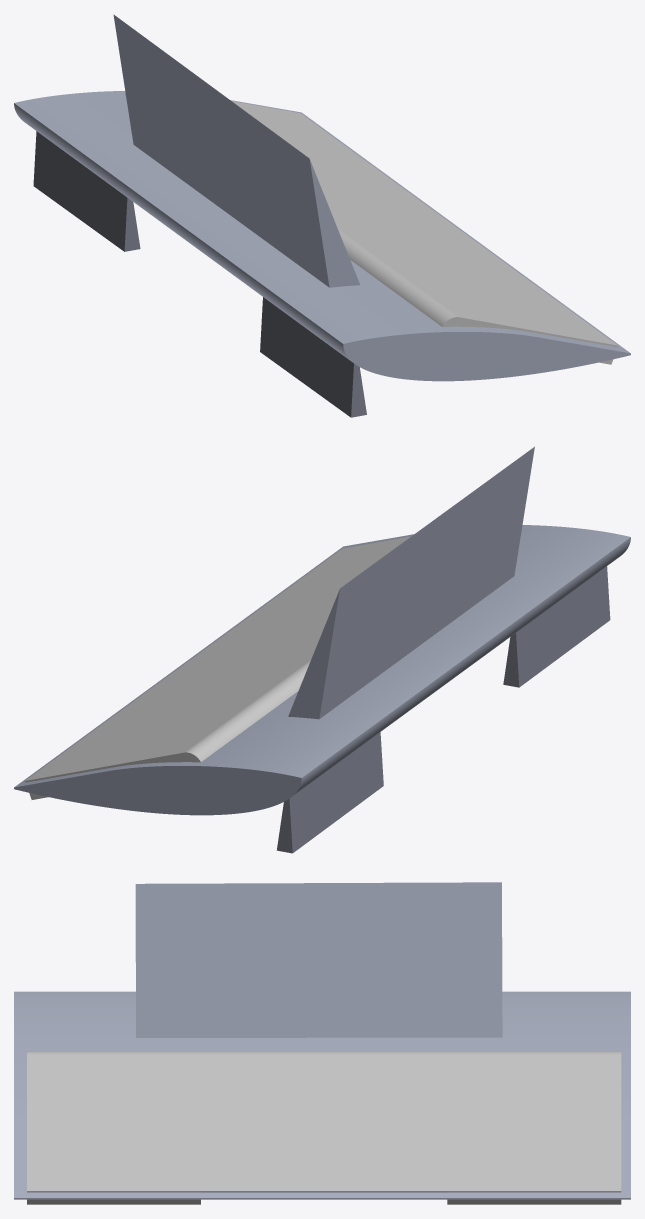
Rendered from AudiometerBase.fbx.
3 renders of one model, top to bottom at view 1: azimuth 30°, elevation 25°; view 2: azimuth 150°, elevation 25°; view 3: azimuth 270°, elevation 25°, orthographic. The views are drawn at different scales.
Visible parts, largest first — view 1: Cube.001, Cube.003, Cube.004, Cube.007, Cube.002, Cube.006, Cube.008, Cube.005; view 2: Cube.001, Cube.003, Cube.005, Cube.008, Cube.002, Cube.006, Cube.007, Cube.004; view 3: Cube.003, Cube.001, Cube.004, Cube.005, Cube.008, Cube.007.
Boxes of the visible parts, <box> form: Cube.001: <box>14,91,630,381</box>; Cube.003: <box>113,14,359,287</box>; Cube.004: <box>350,249,617,364</box>; Cube.007: <box>324,194,530,281</box>; Cube.002: <box>33,131,140,251</box>; Cube.006: <box>260,297,366,417</box>; Cube.008: <box>299,150,439,220</box>; Cube.005: <box>125,94,367,162</box>; Cube.001: <box>14,525,630,815</box>; Cube.003: <box>288,446,534,719</box>; Cube.005: <box>25,684,293,799</box>; Cube.008: <box>113,646,313,720</box>; Cube.002: <box>276,732,383,853</box>; Cube.006: <box>503,566,610,687</box>; Cube.007: <box>186,598,335,664</box>; Cube.004: <box>250,536,410,616</box>; Cube.003: <box>135,882,502,1037</box>; Cube.001: <box>14,991,630,1199</box>; Cube.004: <box>27,1051,200,1204</box>; Cube.005: <box>447,1051,621,1204</box>; Cube.008: <box>320,1051,494,1192</box>; Cube.007: <box>189,1051,363,1192</box>.
Size of the model in its own units: 496 by 370 by 984.
